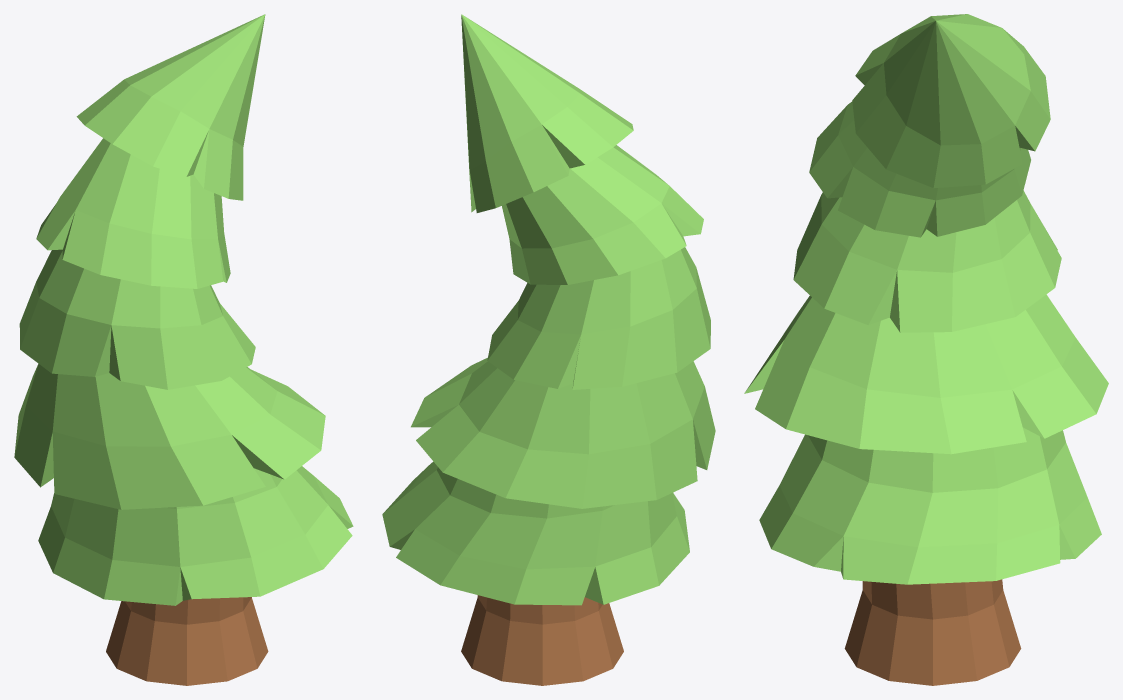
The model's file is Tree1.1Rot.fbx.
3 views of the same model, side by side, from view 1: azimuth 30°, elevation 25°; view 2: azimuth 150°, elevation 25°; view 3: azimuth 270°, elevation 25° (orthographic). The views are drawn at different scales.
Visible parts, largest first — view 1: Tree1.1Rot; view 2: Tree1.1Rot; view 3: Tree1.1Rot.
Part boxes in pixels (bbox=[...]): Tree1.1Rot: bbox=[14, 14, 353, 685]; Tree1.1Rot: bbox=[382, 14, 715, 685]; Tree1.1Rot: bbox=[744, 14, 1108, 685].
Bounding box in the file's own units: 415 × 838 × 413.
